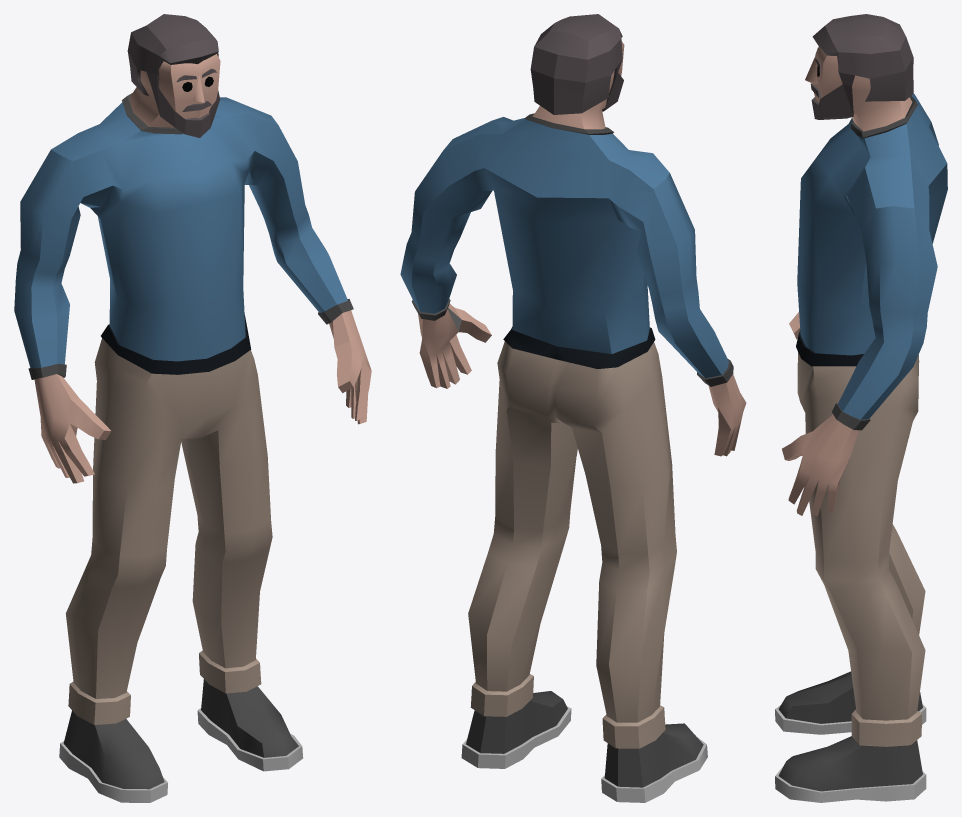
File: character2.glb
The picture shows the model from 3 angles, left to right: view 1: azimuth 30°, elevation 25°; view 2: azimuth 150°, elevation 25°; view 3: azimuth 270°, elevation 25°; orthographic projection.
Parts seen in each view (by area): view 1: lowPolyCharacterFace_EXP; view 2: lowPolyCharacterFace_EXP; view 3: lowPolyCharacterFace_EXP.
Part boxes in pixels (x1,y1,x2,y2): lowPolyCharacterFace_EXP: (14, 14, 371, 802); lowPolyCharacterFace_EXP: (400, 14, 746, 802); lowPolyCharacterFace_EXP: (775, 14, 947, 802).
Bounding box in the file's own units: 0.8335 × 1.84 × 0.3922.
